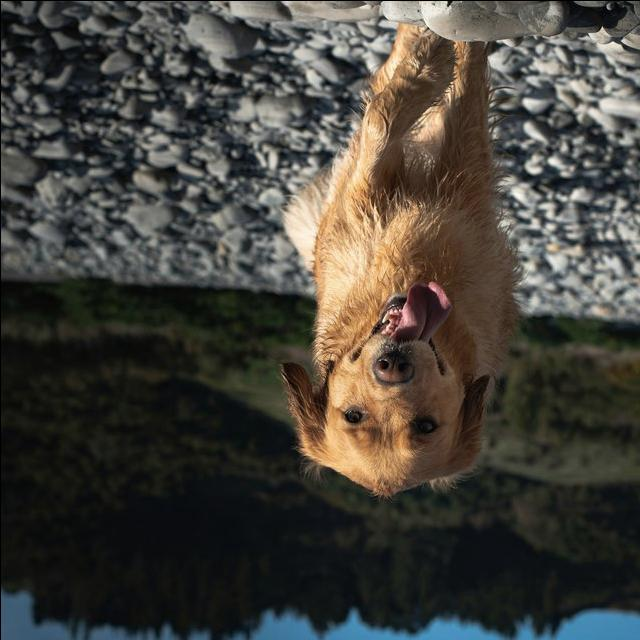retriever: (276, 22, 524, 499)
